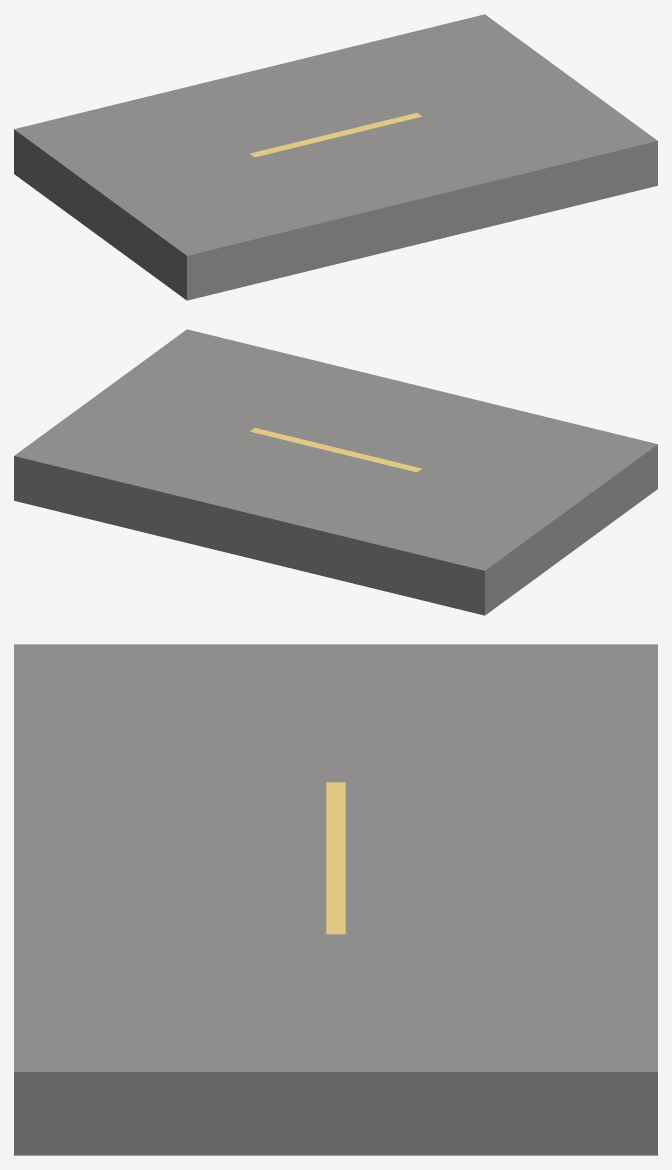
The model's file is road.fbx.
3 renders of one model, top to bottom at view 1: azimuth 30°, elevation 25°; view 2: azimuth 150°, elevation 25°; view 3: azimuth 270°, elevation 25°, orthographic. The views are drawn at different scales.
Visible parts, largest first — view 1: road; view 2: road; view 3: road.
Part boxes in pixels (box(x1,y1,x2,y2)): road: box(14, 14, 657, 300); road: box(14, 329, 657, 615); road: box(14, 644, 657, 1155).
Size of the model in its own units: 2200 by 200 by 1400.
1 material, 1 textured.
